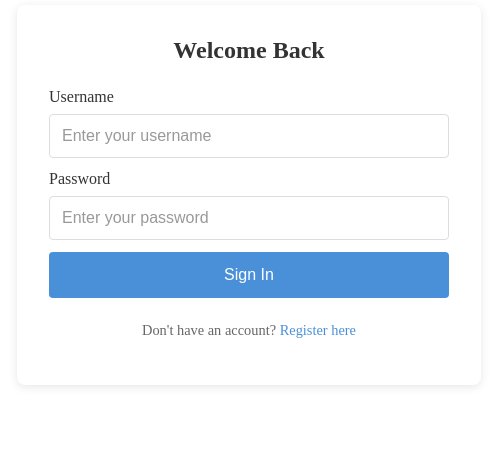
LoginForm › Validation › shows error for empty username
The image size is (499, 449).
Type "password123" into the password field labelled "Password".
click(249, 218); type("password123")  # box x1=49 y1=196 x2=449 y2=240
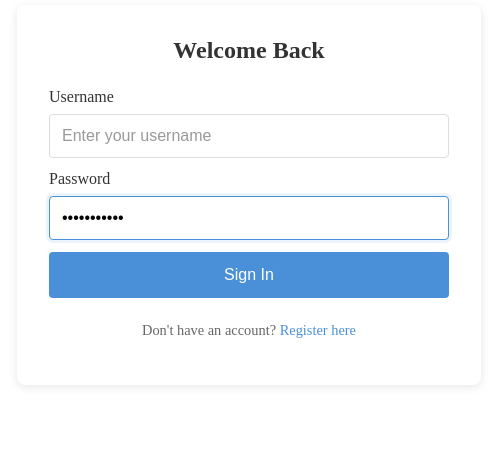
Click the button "Sign In".
click(249, 275)  # box x1=49 y1=252 x2=449 y2=298
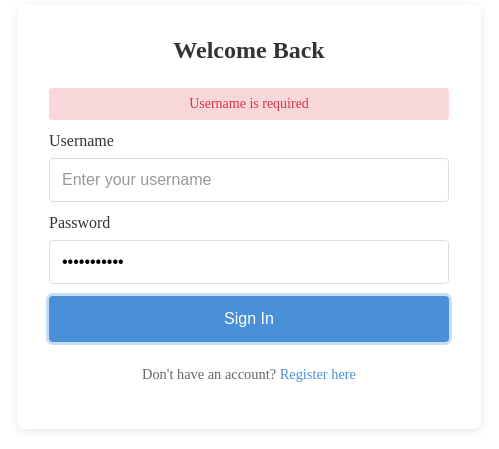
Result: the text "Username is required" is shown at x1=49 y1=88 x2=449 y2=120
